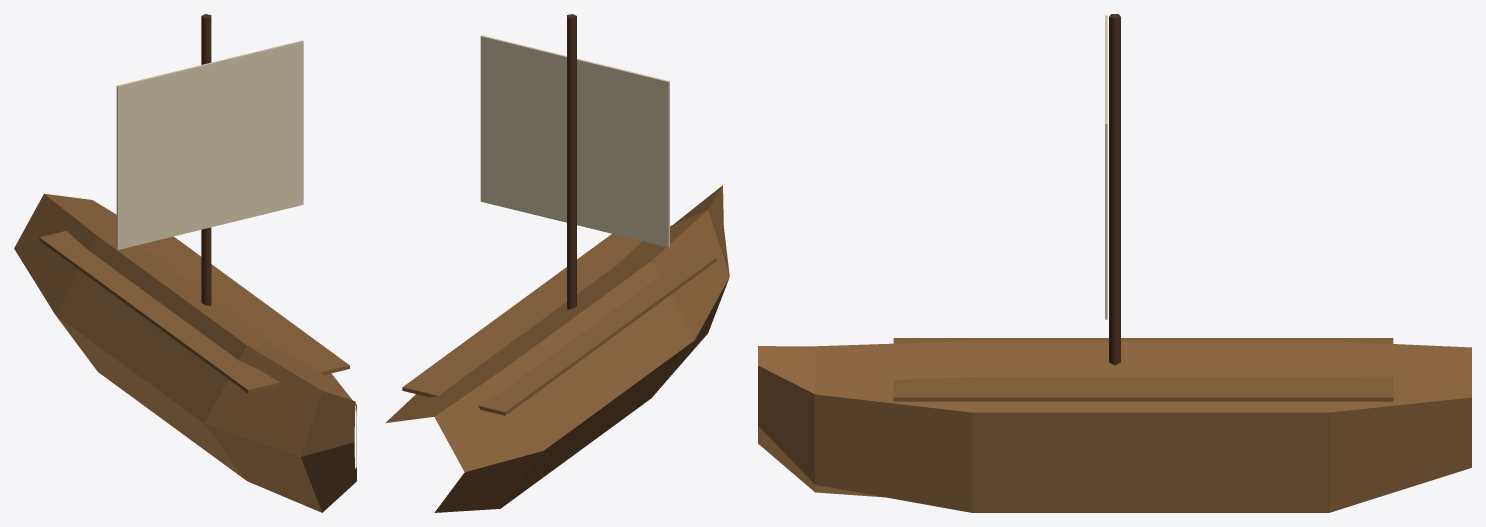
The model's file is veh_naval_merchant_a02_lod1.glb.
The picture shows the model from 3 angles, left to right: view 1: azimuth 30°, elevation 25°; view 2: azimuth 150°, elevation 25°; view 3: azimuth 270°, elevation 25°; orthographic projection. The views are drawn at different scales.
Parts seen in each view (by area): view 1: body, sail_0; view 2: body, sail_0; view 3: body, sail_0.
Part boxes in pixels (box(x1,y1,x2,y2)): body: box(14, 14, 356, 512); sail_0: box(116, 40, 303, 249); body: box(386, 14, 729, 512); sail_0: box(480, 35, 669, 247); body: box(758, 14, 1471, 512); sail_0: box(1105, 15, 1107, 319).
Size of the model in its own units: 4.46 by 9.56 by 12.4.
